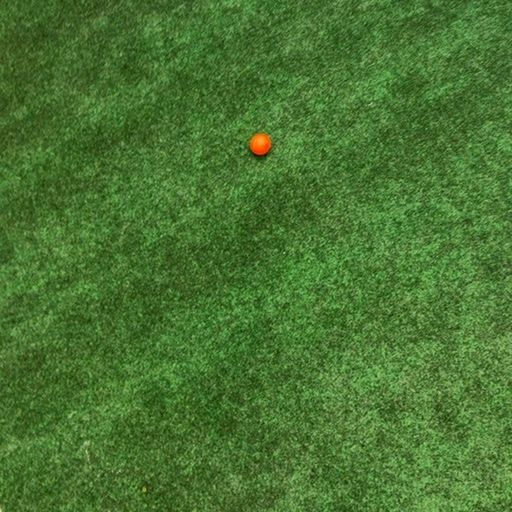Ball: (250, 134, 271, 155)
